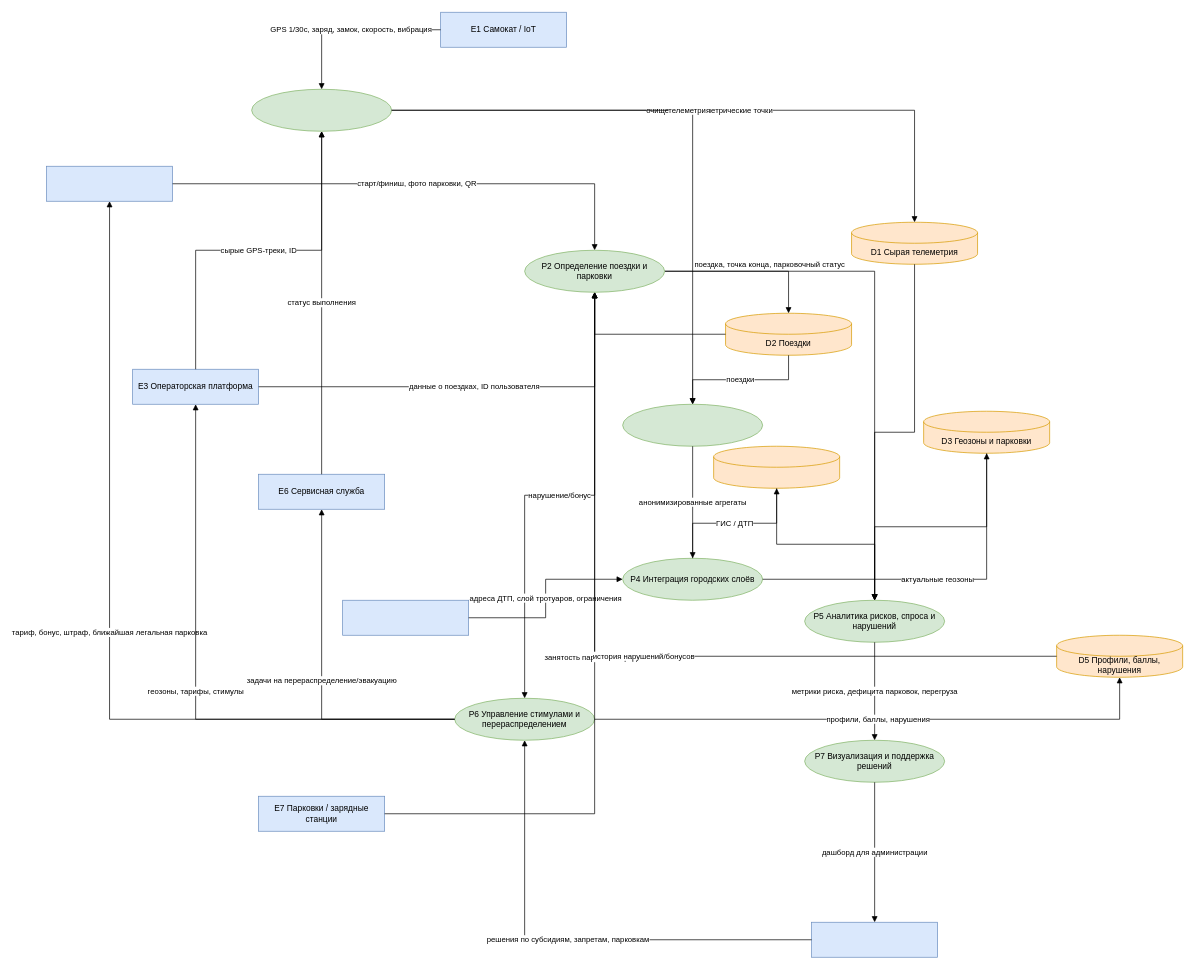
Some shapes in this 1195 by 970 pixel diagram are drawn without their labels. The centre of each missing label's shape, as x and y in pixels:
D4 ГИС / ДТП: the point at 776,467
E2 Пользователь / приложение: the point at 109,183
E4 Городская ГИС / ГИБДД: the point at 405,617
E5 Администрация / дашборд: the point at 874,939
P1 Сбор и валидация телеметрии: the point at 321,110
P3 Анонимизация и агрегация: the point at 692,425
